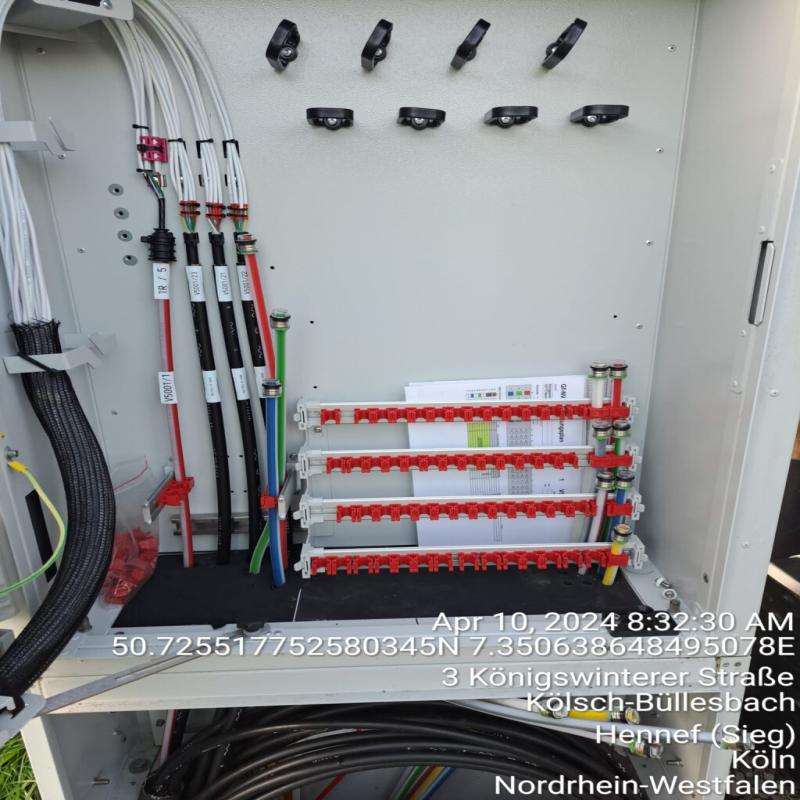NT-Gehause: (2, 1, 792, 614)
